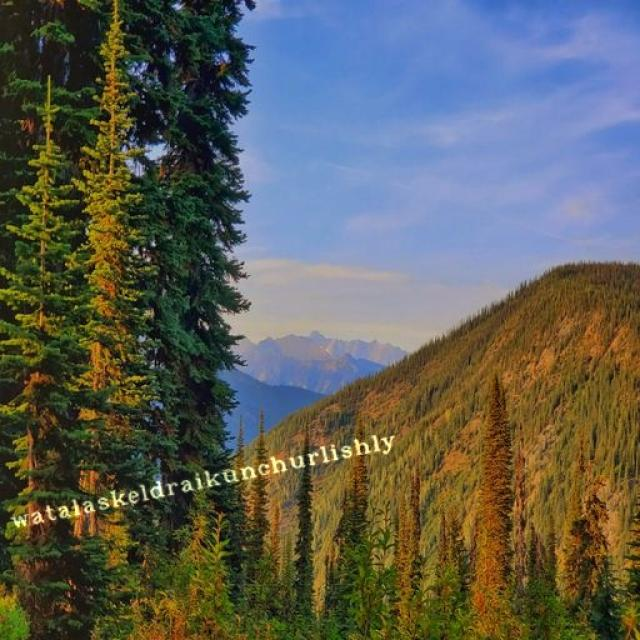watermark: (6, 429, 397, 531)
